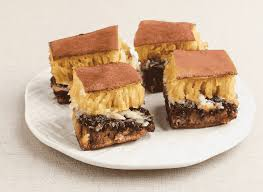Martabak manis: (72, 63, 148, 151), (166, 50, 239, 136), (44, 24, 129, 69), (133, 13, 206, 65)
